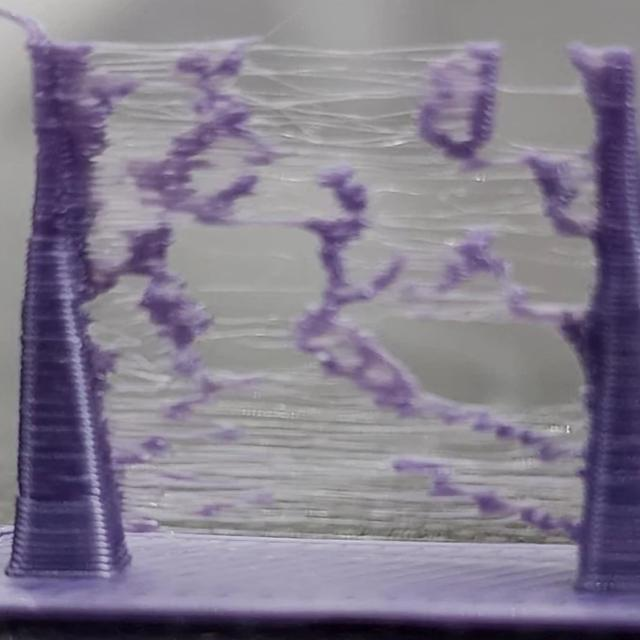Stringing: (123, 420, 412, 539), (406, 392, 599, 541), (85, 188, 200, 429), (86, 47, 283, 176), (198, 324, 417, 435), (295, 57, 504, 166), (264, 170, 470, 254), (469, 142, 613, 234), (434, 255, 584, 323), (326, 252, 438, 316)
